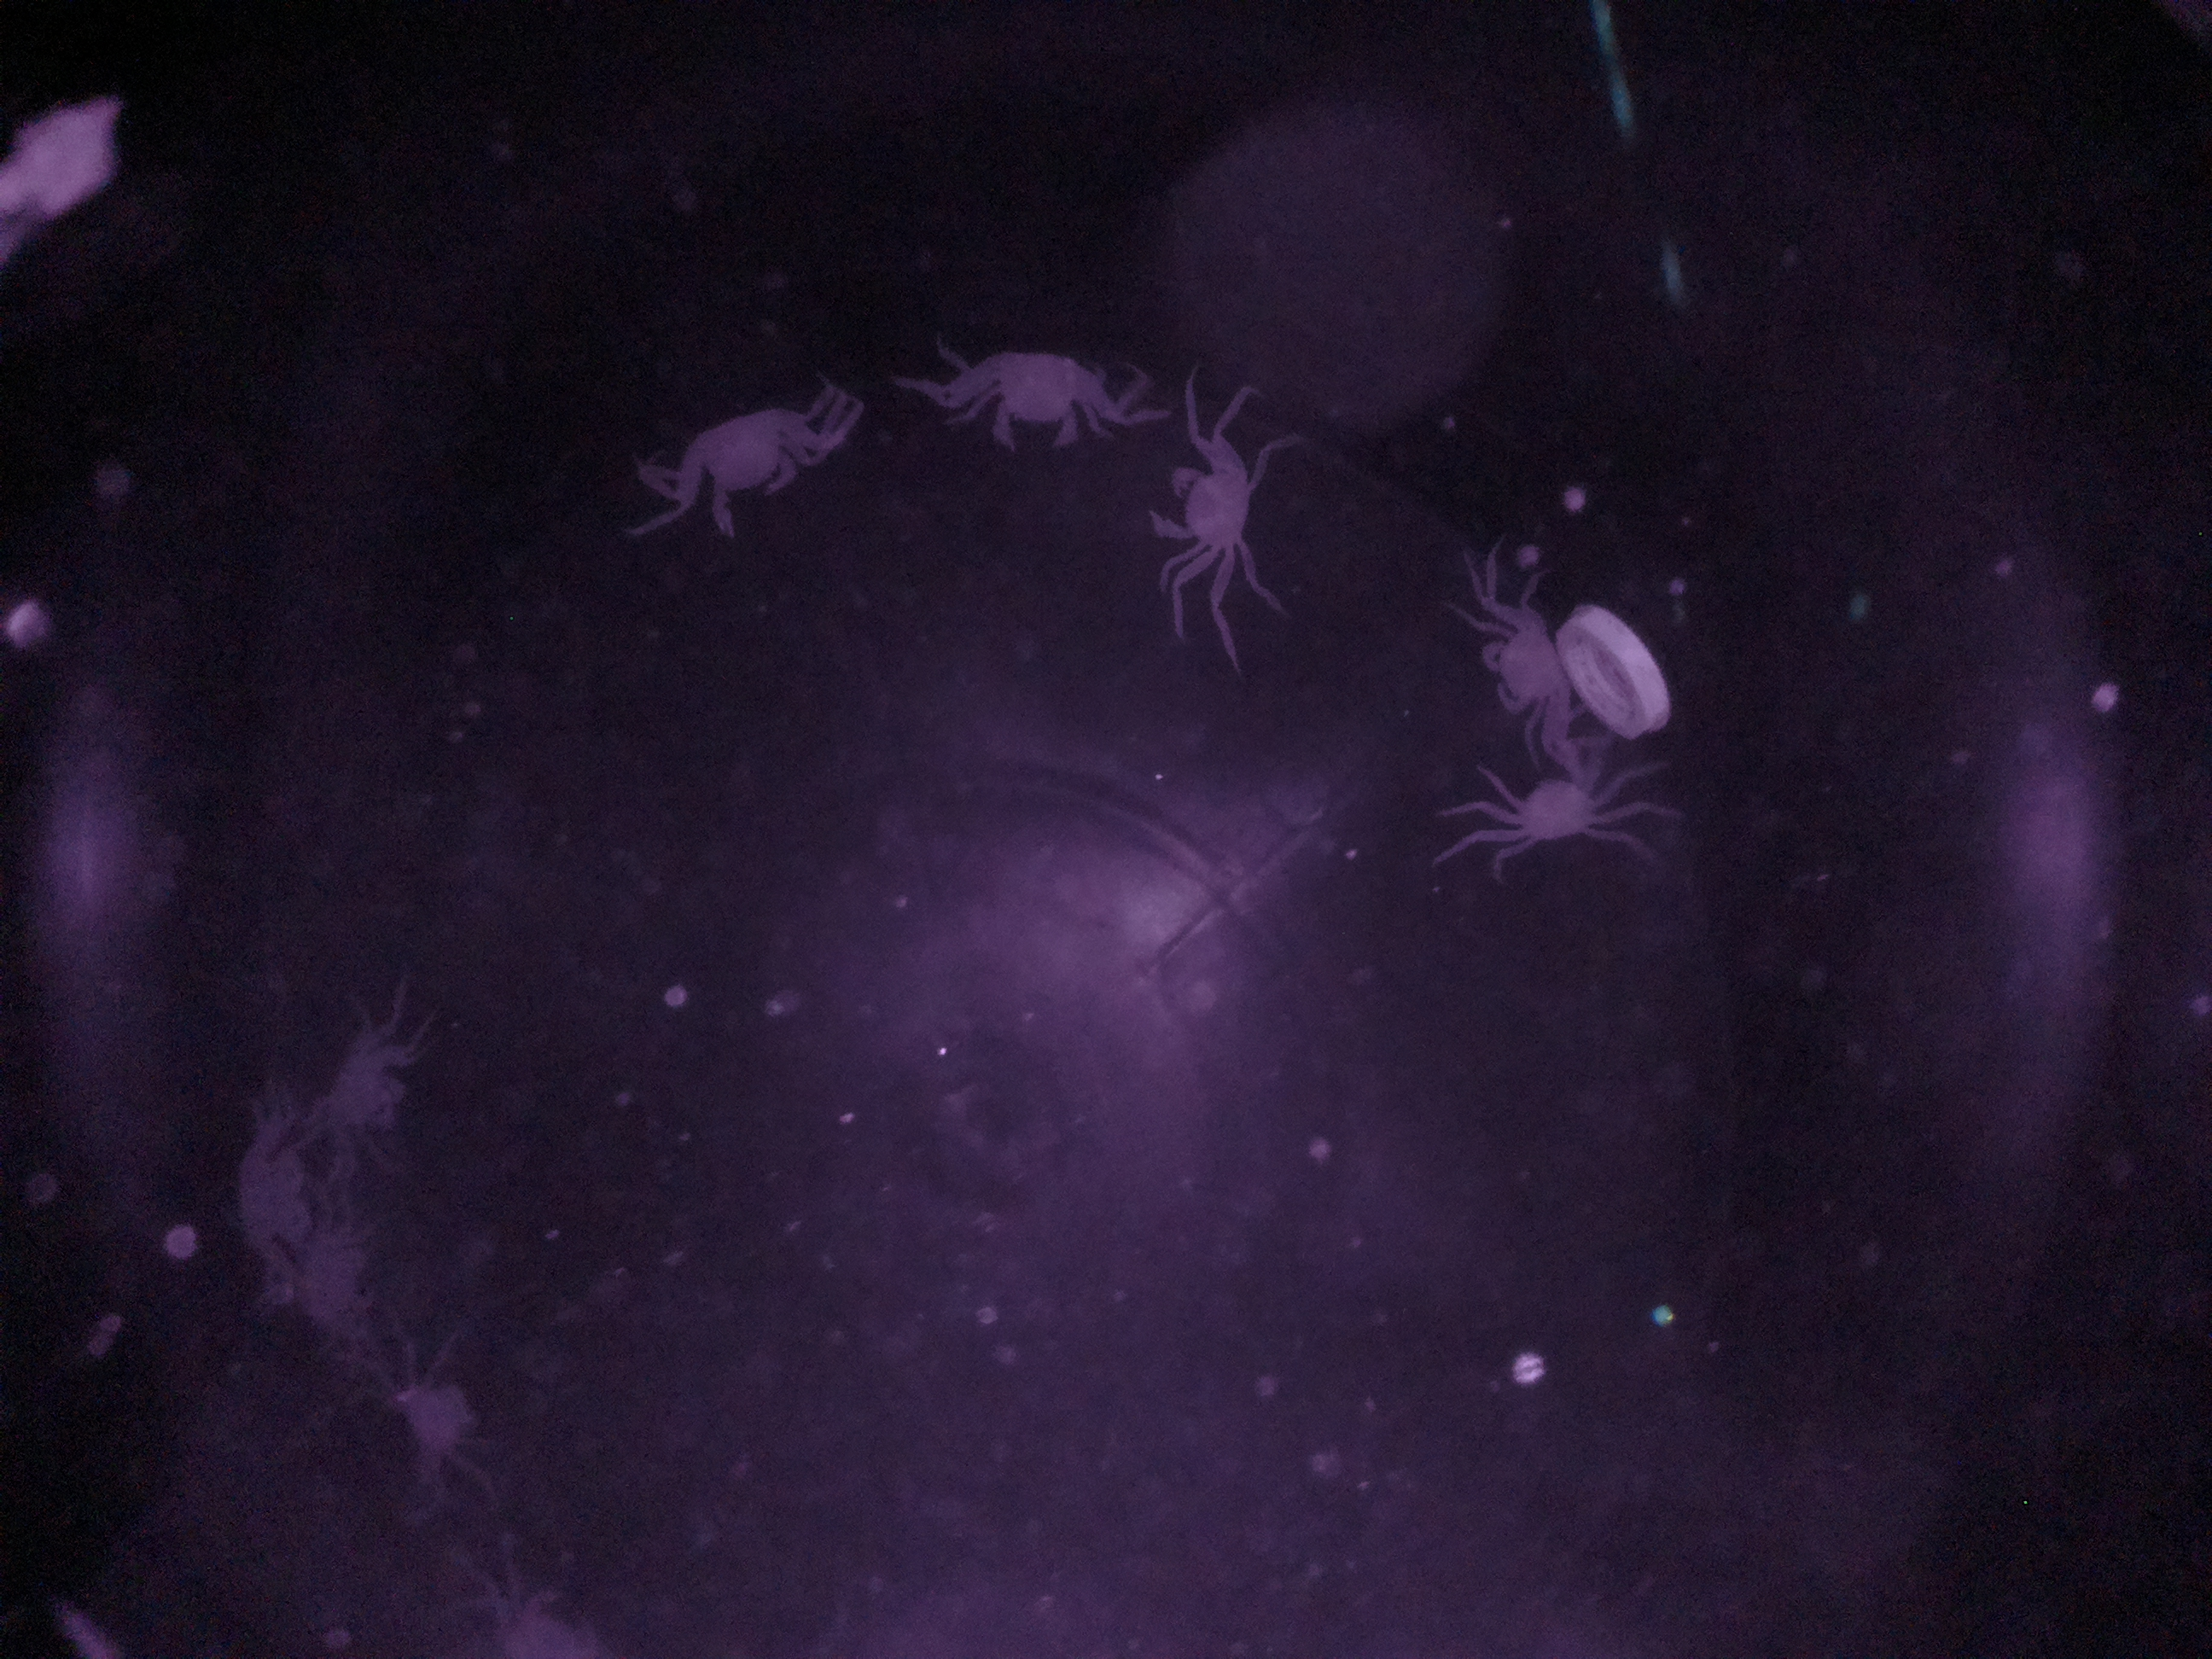Crab: (644, 376, 822, 552), (1449, 739, 1629, 882), (1439, 606, 1618, 735), (1130, 430, 1277, 586), (953, 328, 1097, 472)
